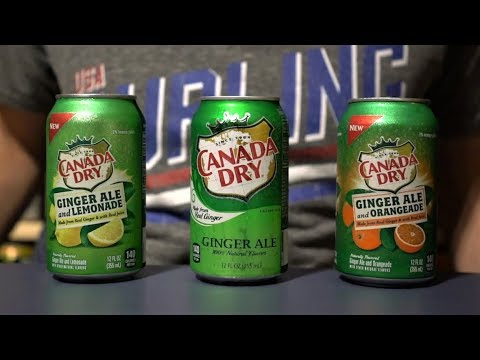Lata: (184, 91, 295, 290)
